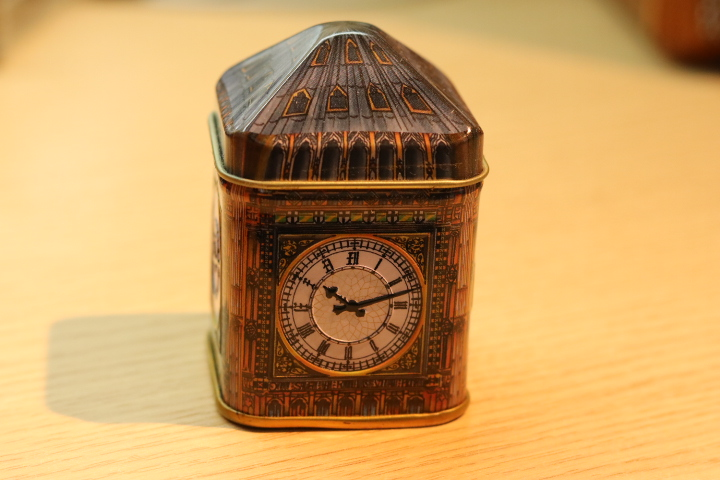Big Ben: (193, 13, 519, 440)
